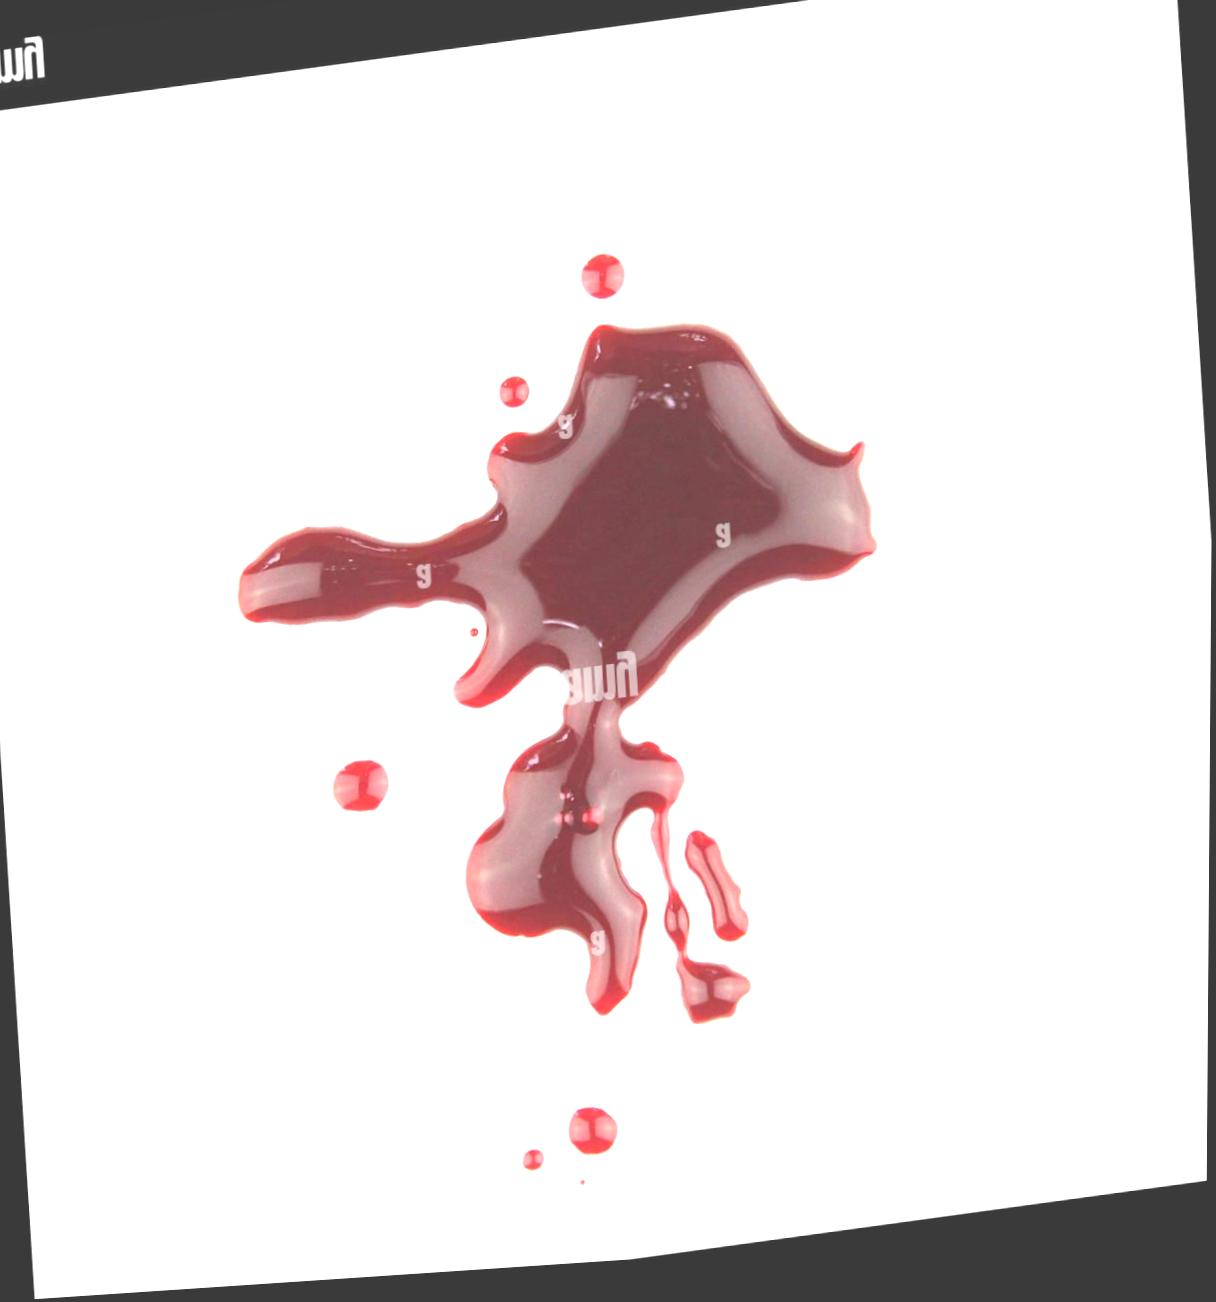Fire: (239, 333, 878, 1035), (685, 840, 750, 953), (333, 765, 390, 817), (569, 1116, 619, 1165), (581, 262, 625, 309), (498, 383, 530, 415)
